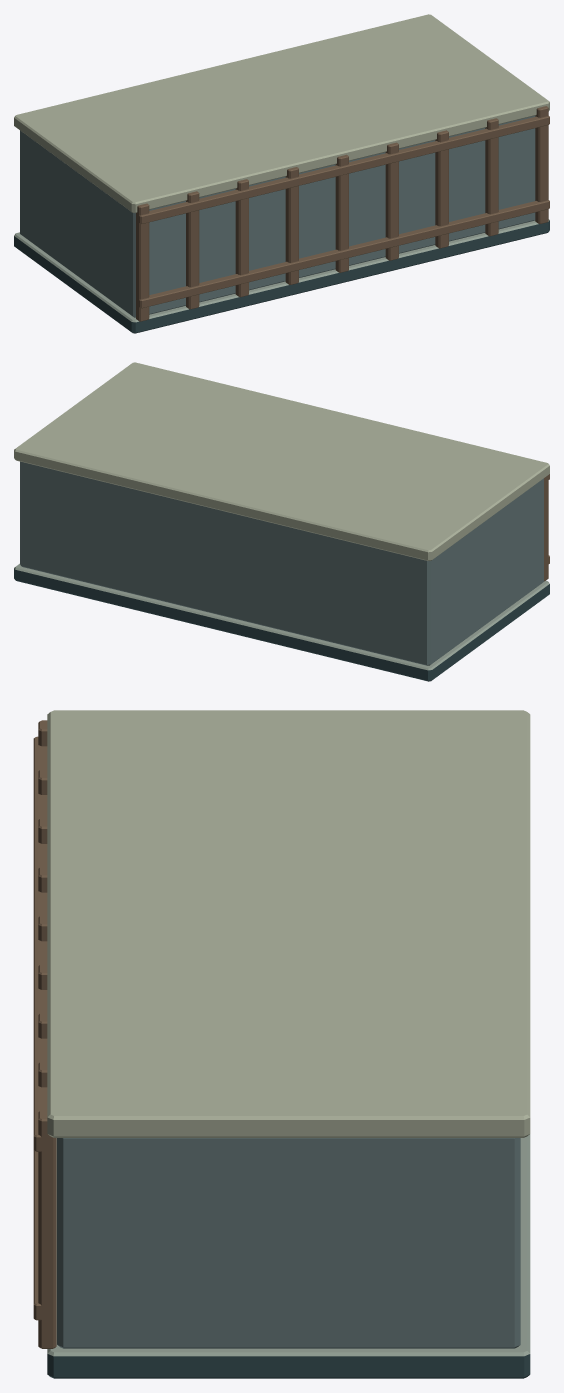
The model's file is platform-wide.glb.
3 renders of one model, top to bottom at view 1: azimuth 30°, elevation 25°; view 2: azimuth 150°, elevation 25°; view 3: azimuth 270°, elevation 25°, orthographic. The views are drawn at different scales.
Parts seen in each view (by area): view 1: platform-wide__body; view 2: platform-wide__body; view 3: platform-wide__body.
Boxes of the visible parts, left/top/right/bottom form: platform-wide__body: left=14, top=14, right=549, bottom=333; platform-wide__body: left=14, top=362, right=549, bottom=681; platform-wide__body: left=33, top=710, right=530, bottom=1378.
Size of the model in its own units: 4 by 1.2 by 2.06.
